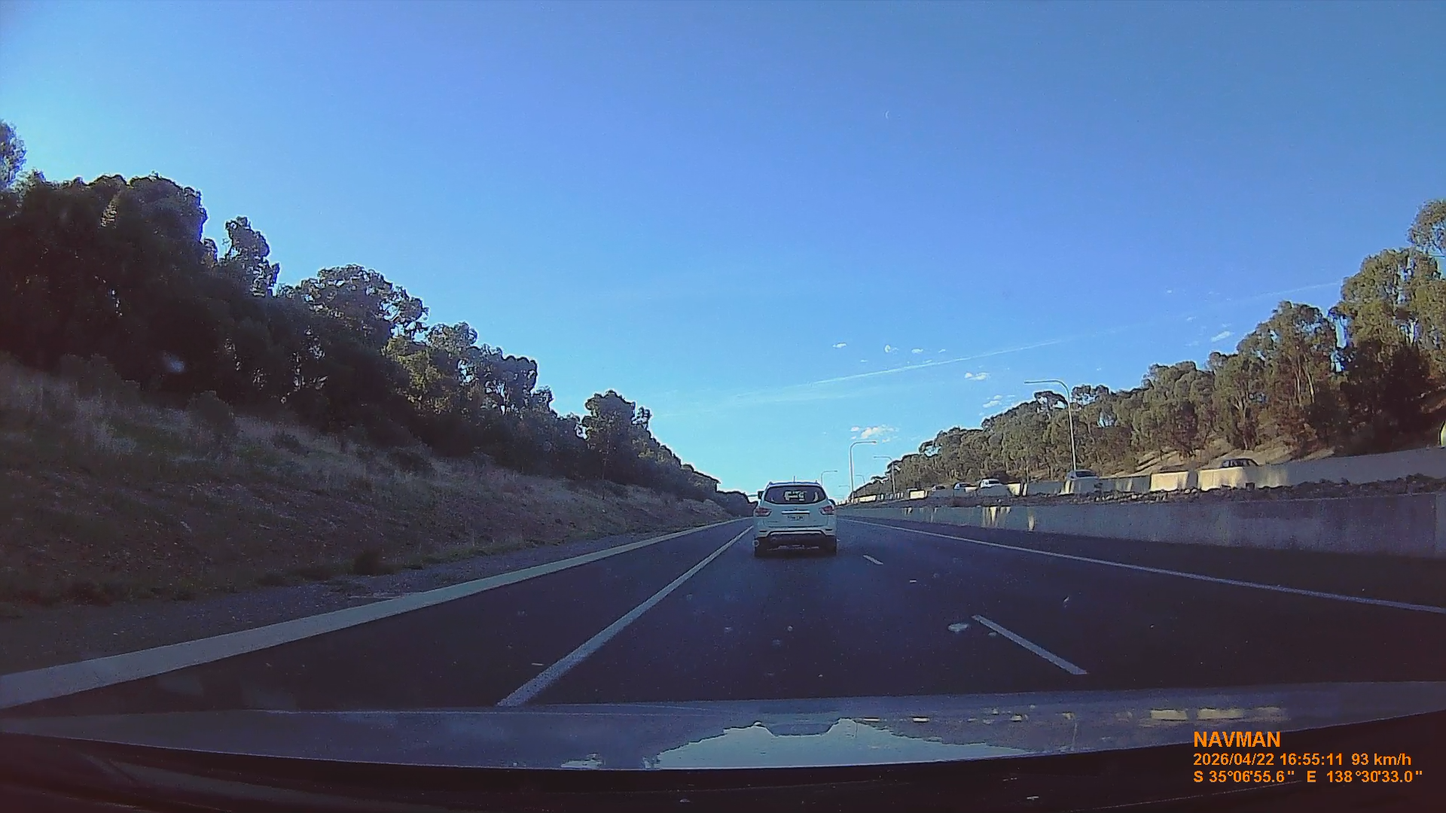road barriers: (845, 491, 1445, 556), (897, 461, 1445, 500)
